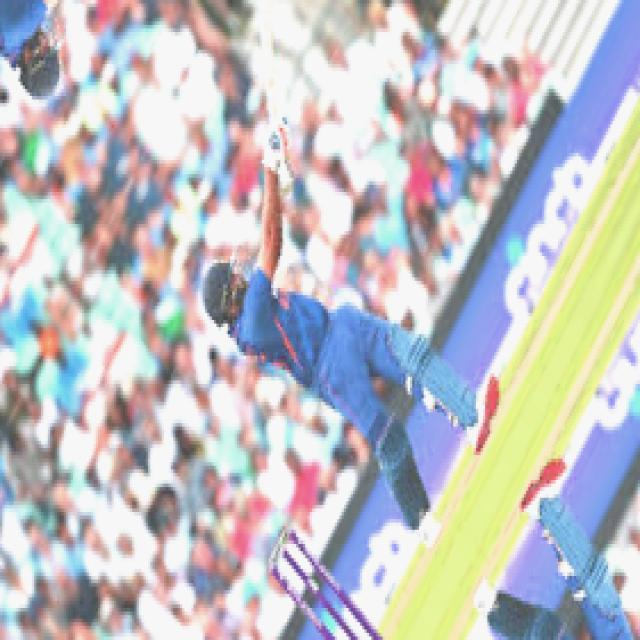toe: (254, 12, 274, 32)
